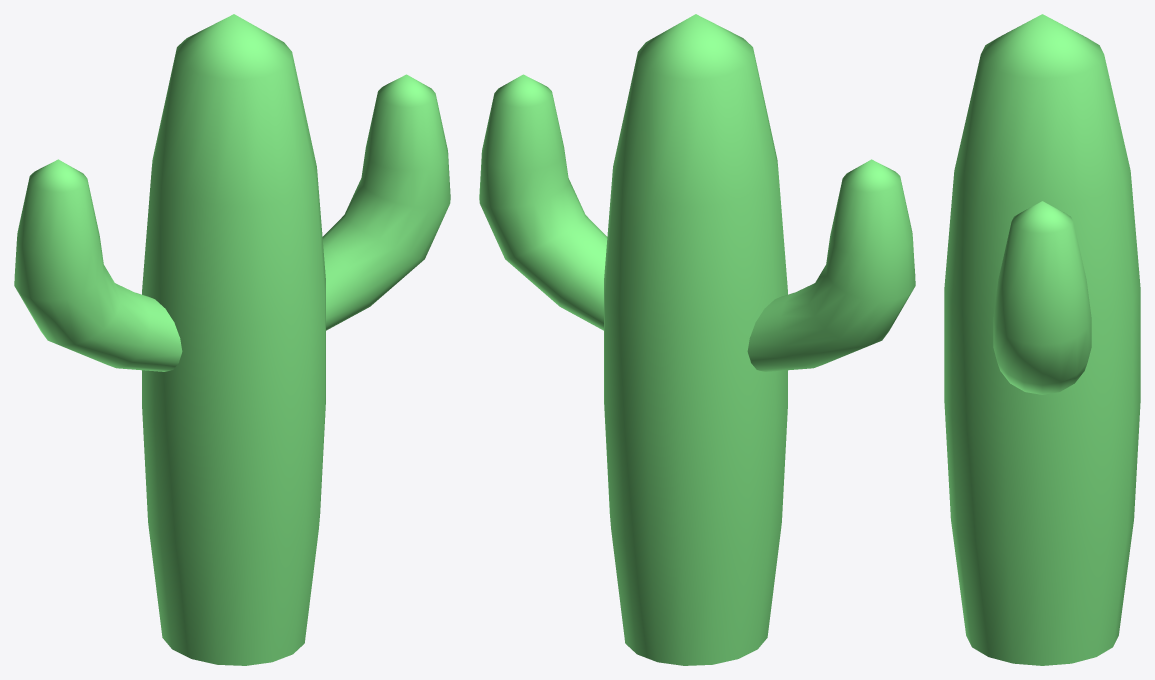
File: cactus.glb
The picture shows the model from 3 angles, left to right: view 1: azimuth 30°, elevation 25°; view 2: azimuth 150°, elevation 25°; view 3: azimuth 270°, elevation 25°; orthographic projection.
Visible parts, largest first — view 1: CactusA.001; view 2: CactusA.001; view 3: CactusA.001.
Part boxes in pixels (x1,y1,x2,y2): CactusA.001: (14,14,450,665); CactusA.001: (479,14,915,665); CactusA.001: (944,14,1140,665).
Size of the model in its own units: 1 by 1.4 by 0.4.
